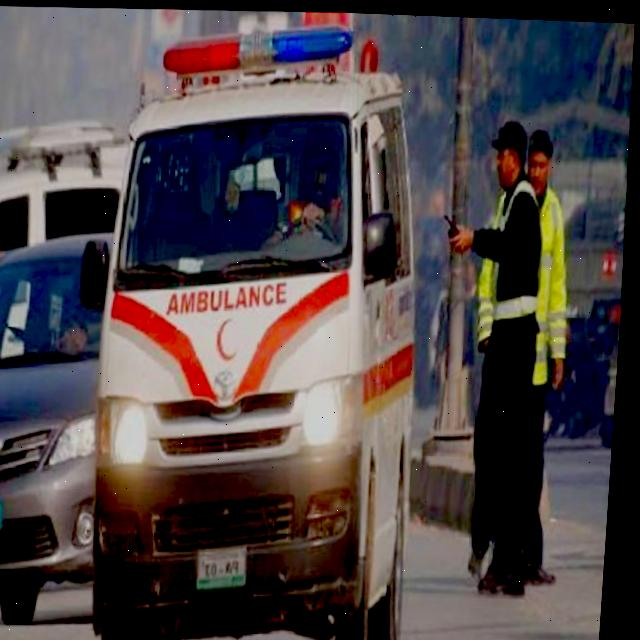emergency: (71, 11, 449, 640)
